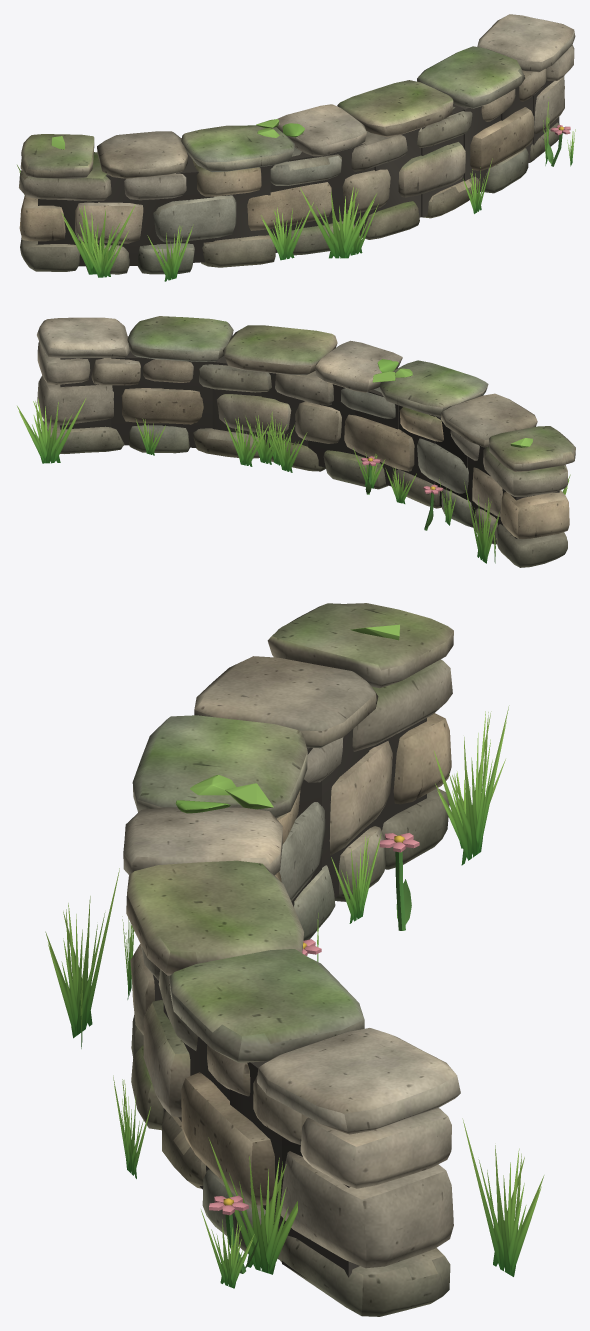
Rendered from stone_wall.gltf.
3 views of the same model, one above another, from view 1: azimuth 30°, elevation 25°; view 2: azimuth 150°, elevation 25°; view 3: azimuth 270°, elevation 25° (orthographic). The views are drawn at different scales.
Visible parts, largest first — view 1: Wall, Core, Greenery; view 2: Wall, Core, Greenery; view 3: Wall, Greenery, Core.
Part boxes in pixels (left/top/right/bottom): Wall: left=19, top=14, right=575, bottom=274; Core: left=38, top=68, right=570, bottom=266; Greenery: left=17, top=97, right=575, bottom=281; Wall: left=37, top=316, right=575, bottom=567; Core: left=60, top=351, right=559, bottom=538; Greenery: left=17, top=398, right=570, bottom=563; Wall: left=123, top=603, right=460, bottom=1316; Greenery: left=45, top=705, right=544, bottom=1288; Core: left=153, top=624, right=426, bottom=1278.
Bounding box in the file's own units: 4.08 × 0.8477 × 1.67.
Materials: 9 (2 with a texture image).
